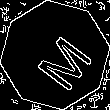M_NW: (21, 21, 89, 89)
